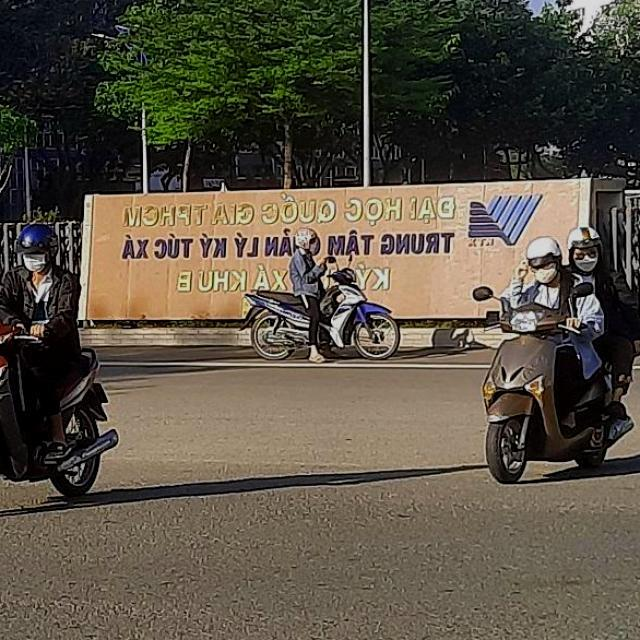Helmet: (14, 222, 58, 270), (526, 236, 564, 286), (566, 225, 603, 271), (294, 225, 320, 258)
